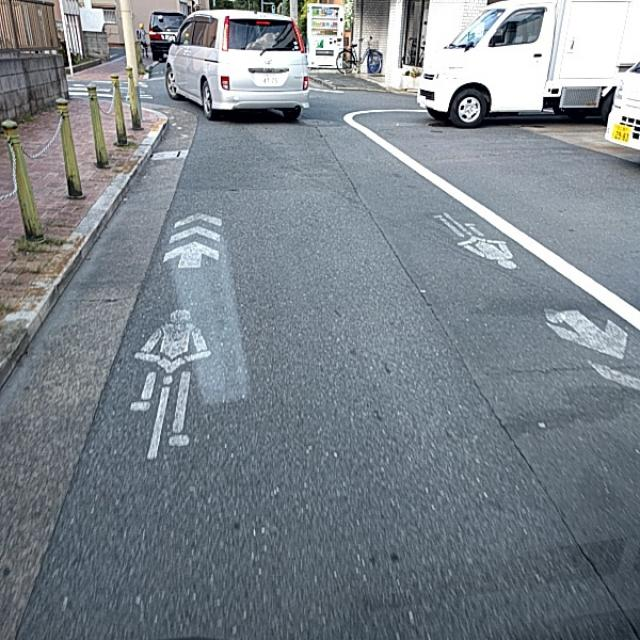pothole: (393, 257, 451, 344)
